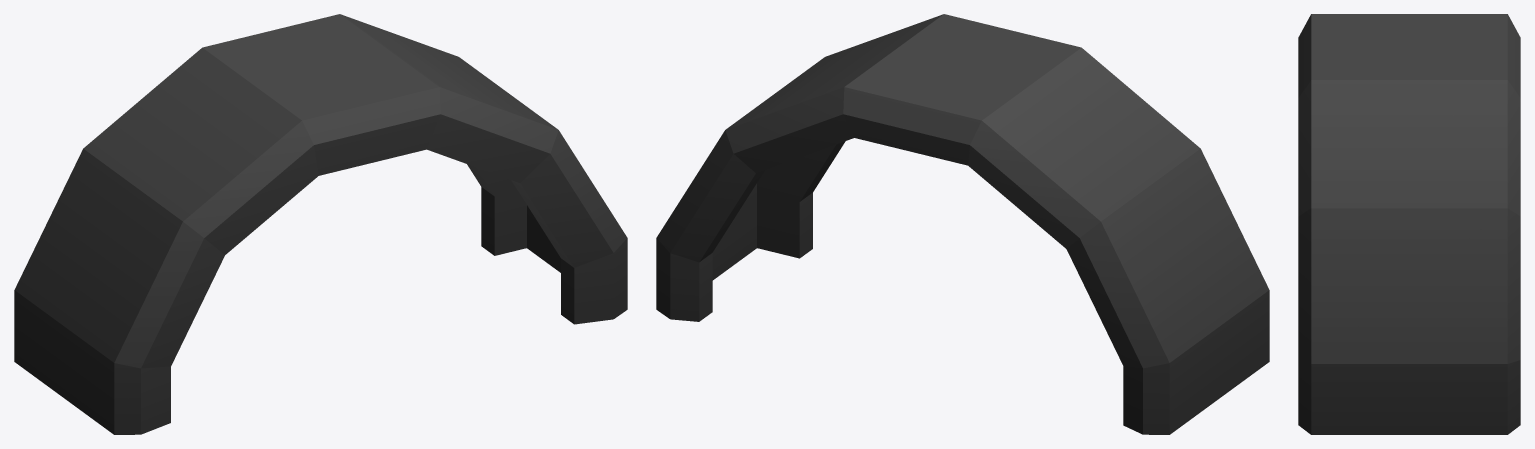
Rendered from Prop_Tire_Half_01.obj.
3 renders of one model, left to right at view 1: azimuth 30°, elevation 25°; view 2: azimuth 150°, elevation 25°; view 3: azimuth 270°, elevation 25°, orthographic.
Parts seen in each view (by area): view 1: Prop_Tire_Half_01; view 2: Prop_Tire_Half_01; view 3: Prop_Tire_Half_01.
Boxes of the visible parts, left/top/right/bottom form: Prop_Tire_Half_01: left=14, top=14, right=627, bottom=434; Prop_Tire_Half_01: left=656, top=14, right=1269, bottom=434; Prop_Tire_Half_01: left=1298, top=14, right=1520, bottom=434.
Size of the model in its own units: 0.8017 by 0.4009 by 0.3049.
1 material, 1 textured.
